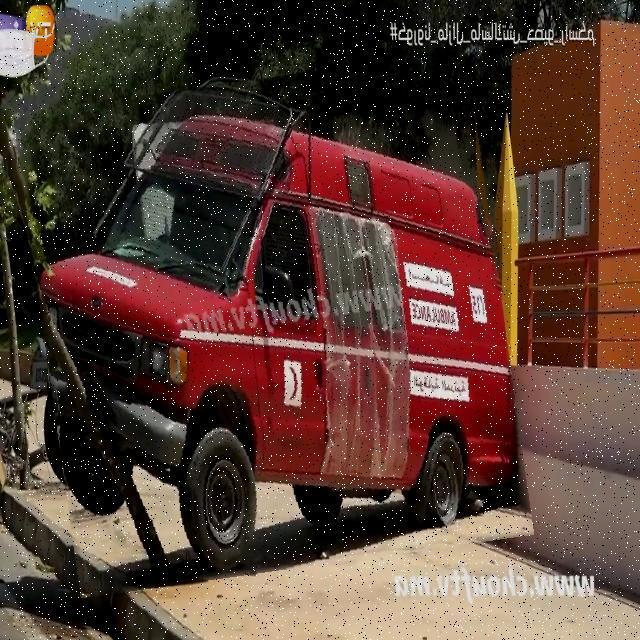ambulance: (29, 65, 518, 584)
